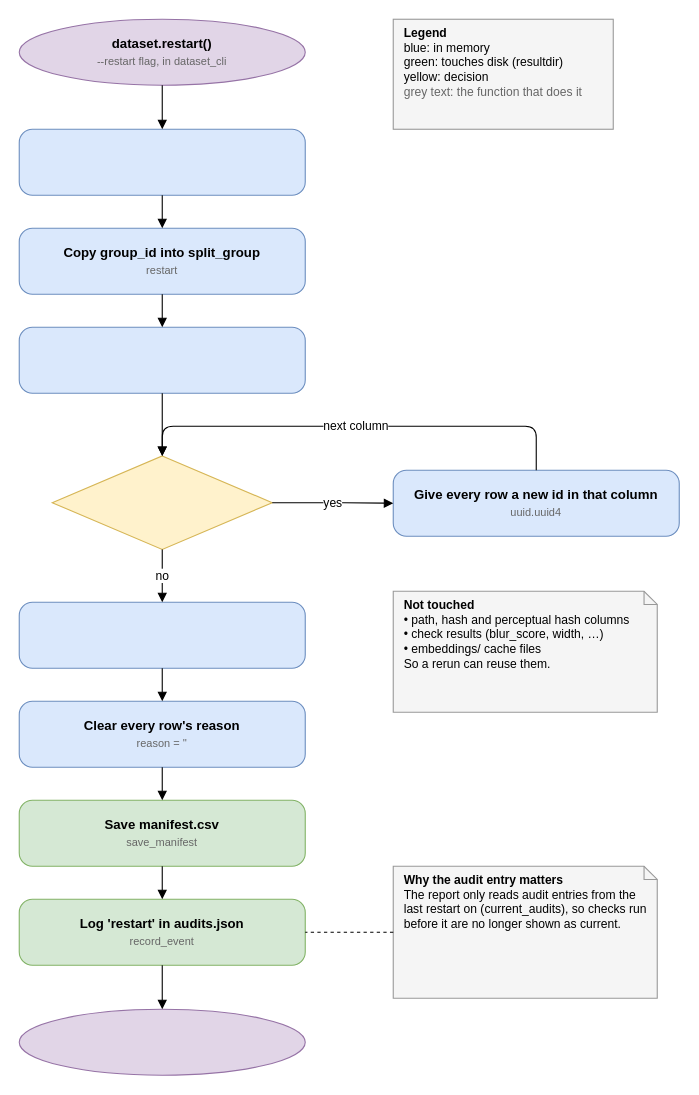
The diagram is 699 pixels wide and 1095 high, and some of its shapes have lost their labels. The shapes that lost their labels are listed below. From the top down, each one's centre as x and y in pixels, then its label:
At point (161, 161): "Give every row a new group id uuid.uuid4 → group_id".
At point (161, 359): "Find the per-model group columns group_columns (e.g. group_alexnet_0_95)".
At point (161, 502): "Another group column left?".
At point (161, 634): "Clear every row's action action = ''".
At point (161, 1041): "Back to dataset_cli checks run on a clean manifest".
